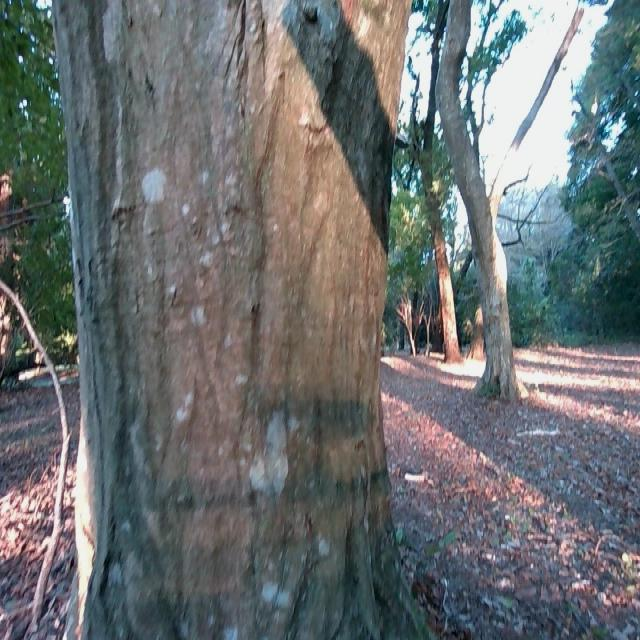tree: (56, 0, 412, 640), (434, 0, 541, 400), (423, 107, 465, 361)
